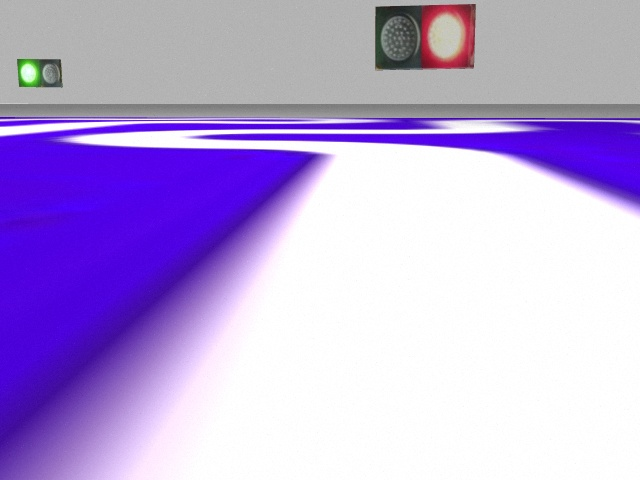red: (422, 4, 476, 71)
